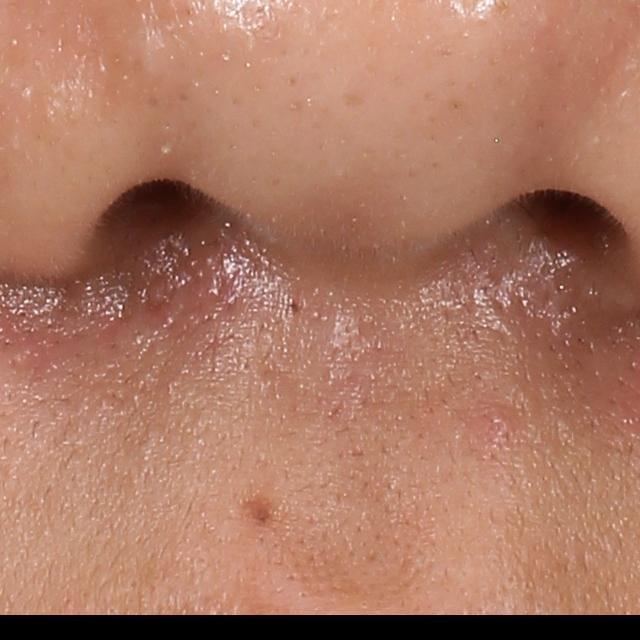nevus: (241, 491, 279, 527)
